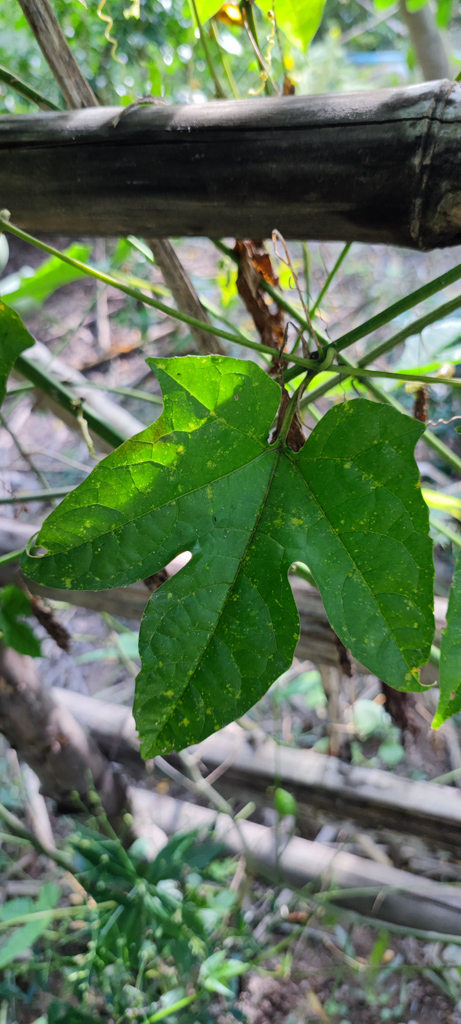Rust: (61, 425, 246, 591), (315, 444, 428, 627), (146, 594, 276, 745), (241, 491, 319, 548)
